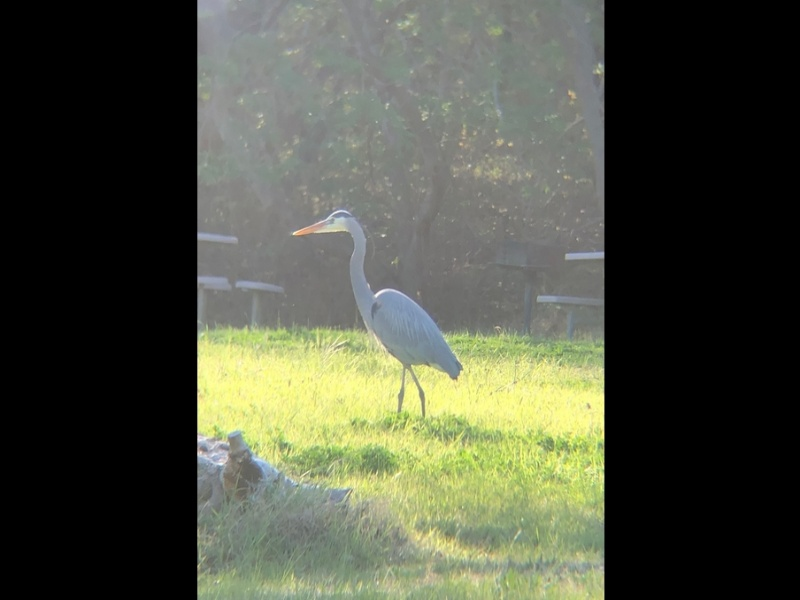heron: (291, 205, 462, 407)
